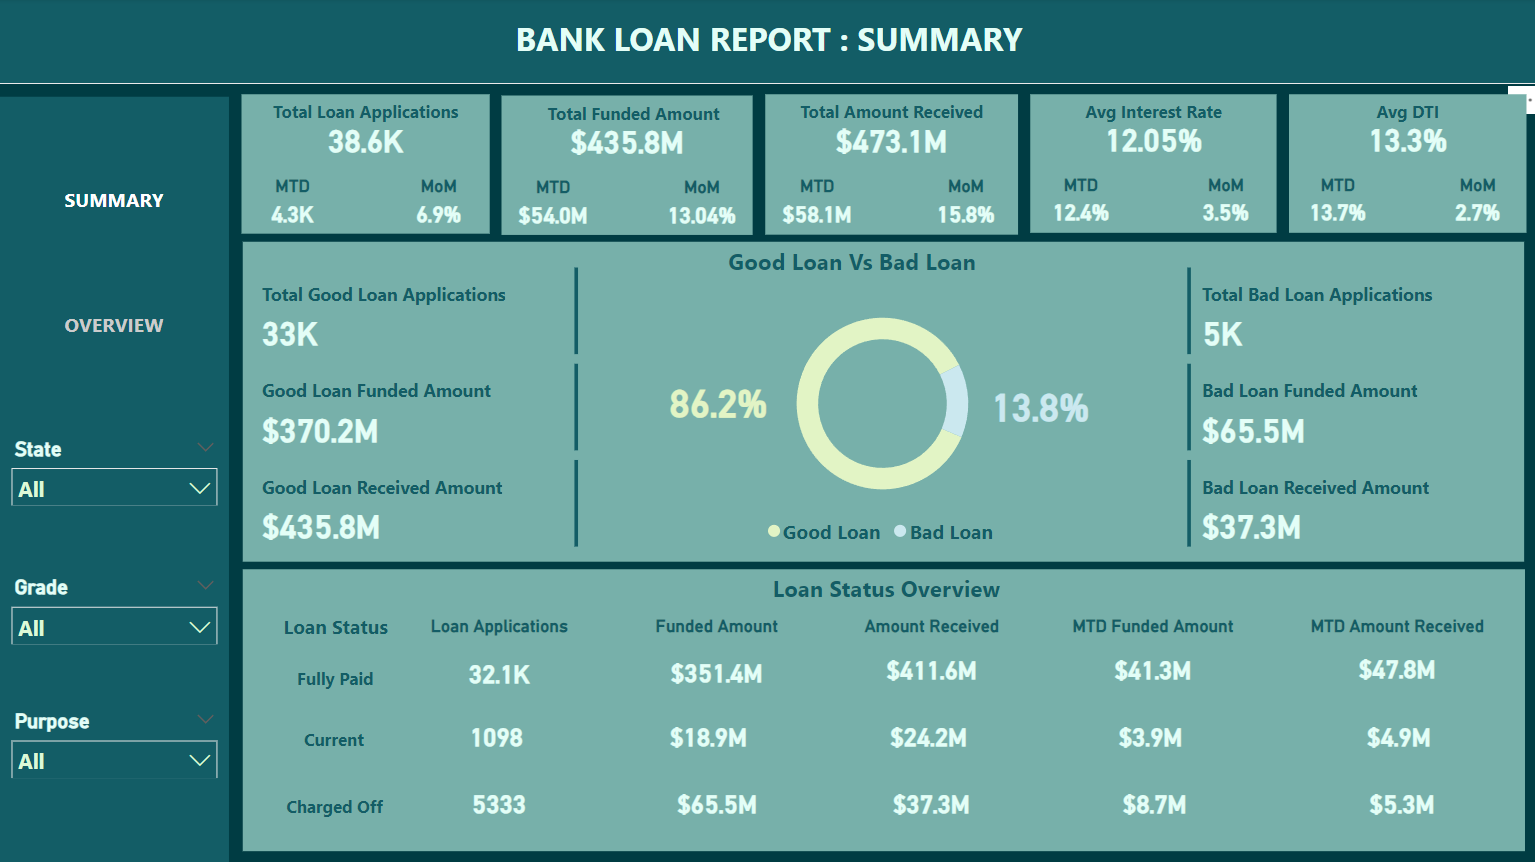

What the dashboard file says about the page in this screenshot:
{"tool":"powerbi","page":{"name":"Page 1","canvas":[1280,720],"ordinal":0},"visuals":[{"type":"shape","box":[0,0,1280.3,71.4],"z":0},{"type":"shape","box":[1073.8,78.6,195.3,116.3],"z":0,"group":"g5"},{"type":"shape","box":[201.8,79.8,195.3,116.3],"z":0,"group":"g2"},{"type":"shape","box":[637.3,79.9,195.3,117.5],"z":0,"group":"g4"},{"type":"shape","box":[856.4,79.9,195.3,116.3],"z":0,"group":"g6"},{"type":"shape","box":[417.4,81.1,195.3,116.3],"z":0,"group":"g1"},{"type":"group","id":"g1","title":"Group 2","box":[417.4,81.1,195.3,116.3],"z":14,"group":"g3"},{"type":"shape","box":[0,78.6,191.7,642.6],"z":1000},{"type":"card","fields":{"Values":["financial_loan.Avg Dti"]},"box":[1073.8,93.7,195.3,45.3],"z":1000,"group":"g5"},{"type":"card","fields":{"Values":["financial_loan.Total Loan Applications"]},"box":[201.8,94.9,195.3,45.3],"z":1000,"group":"g2"},{"type":"card","fields":{"Values":["financial_loan.AVG interest rate"]},"box":[856.4,95,195.3,45.3],"z":1000,"group":"g6"},{"type":"card","fields":{"Values":["financial_loan.Total Amount Received"]},"box":[637.3,95.2,195.3,45.8],"z":1000,"group":"g4"},{"type":"card","fields":{"Values":["financial_loan.Total Funded Amount"]},"box":[417.4,96.2,195.3,45.3],"z":1000,"group":"g1"},{"type":"textbox","box":[0,10.5,1280.2,51.2],"z":2000},{"type":"textbox","box":[1073.8,78.6,195.3,29.1],"z":2000,"group":"g5"},{"type":"textbox","box":[201.8,79.8,195.3,29.1],"z":2000,"group":"g2"},{"type":"textbox","box":[637.3,79.9,195.3,29.4],"z":2000,"group":"g4"},{"type":"textbox","box":[856.4,79.9,195.3,29.1],"z":2000,"group":"g6"},{"type":"textbox","box":[421.9,81.1,195.3,29.1],"z":2000,"group":"g3"},{"type":"group","id":"g2","title":"Group 1","box":[201.8,79.8,195.3,116.3],"z":3000},{"type":"card","title":"MTD","fields":{"Values":["financial_loan.MTD Avg DTI Rate"]},"box":[1073.8,146,80.2,48.8],"z":3000,"group":"g5"},{"type":"card","title":"MTD","fields":{"Values":["financial_loan.MTD Total Applications"]},"box":[201.8,147.2,80.2,48.8],"z":3000,"group":"g2"},{"type":"card","title":"MTD","fields":{"Values":["financial_loan.MTD Avg Interest Rate"]},"box":[856.4,147.3,80.2,48.8],"z":3000,"group":"g6"},{"type":"card","title":"MTD","fields":{"Values":["financial_loan.MTD Amount Received"]},"box":[637.3,148.1,80.2,49.4],"z":3000,"group":"g4"},{"type":"card","title":"MTD","fields":{"Values":["financial_loan.MTD Total Fund"]},"box":[417.4,148.5,80.2,48.8],"z":3000,"group":"g1"},{"type":"group","id":"g3","title":"Group 1","box":[417.4,81.1,199.9,116.3],"z":4000},{"type":"card","title":"MoM","fields":{"Values":["financial_loan.MOM Avg DTI Rate"]},"box":[1188.9,146,80.2,48.8],"z":4000,"group":"g5"},{"type":"card","title":"MoM","fields":{"Values":["financial_loan.MOM Loan Applications"]},"box":[316.9,147.2,80.2,48.8],"z":4000,"group":"g2"},{"type":"card","title":"MoM","fields":{"Values":["financial_loan.MOM Avg Interest Rate"]},"box":[971.5,147.3,80.2,48.8],"z":4000,"group":"g6"},{"type":"card","title":"MoM","fields":{"Values":["financial_loan.MOM Amount Received"]},"box":[752.4,148.1,80.2,49.4],"z":4000,"group":"g4"},{"type":"card","title":"MoM","fields":{"Values":["financial_loan.MOM Loan Funded"]},"box":[532.5,148.5,80.2,48.8],"z":4000,"group":"g1"},{"type":"group","id":"g4","title":"Group 1","box":[637.3,79.9,195.4,118],"z":5000},{"type":"group","id":"g5","title":"Group 1","box":[1073.8,78.6,195.4,116.7],"z":7000},{"type":"group","id":"g6","title":"Group 1","box":[856.4,79.9,195.4,116.7],"z":7001},{"type":"shape","box":[201.5,206.9,515.1,259.7],"z":7002},{"type":"shape","box":[742.5,206.9,527,259.7],"z":7003}]}

Visuals, with their boxes in screenshot pixels (x1, y1, x2, y2), scaled from the page's 1280x720 canvas onto the 1535x862 screenshot:
shape: 0:0:1534:85
shape: 1288:94:1522:233
shape: 242:96:476:235
shape: 764:96:998:236
shape: 1027:96:1261:235
shape: 501:97:735:236
"Group 2" group: 501:97:735:236
shape: 0:94:230:861
card - financial_loan.Avg Dti: 1288:112:1522:166
card - financial_loan.Total Loan Applications: 242:114:476:168
card - financial_loan.AVG interest rate: 1027:114:1261:168
card - financial_loan.Total Amount Received: 764:114:998:169
card - financial_loan.Total Funded Amount: 501:115:735:169
textbox: 0:13:1534:74
textbox: 1288:94:1522:129
textbox: 242:96:476:130
textbox: 764:96:998:131
textbox: 1027:96:1261:130
textbox: 506:97:740:132
"Group 1" group: 242:96:476:235
"MTD" card: 1288:175:1384:233
"MTD" card: 242:176:338:235
"MTD" card: 1027:176:1123:235
"MTD" card: 764:177:860:236
"MTD" card: 501:178:597:236
"Group 1" group: 501:97:740:236
"MoM" card: 1426:175:1522:233
"MoM" card: 380:176:476:235
"MoM" card: 1165:176:1261:235
"MoM" card: 902:177:998:236
"MoM" card: 639:178:735:236
"Group 1" group: 764:96:999:237
"Group 1" group: 1288:94:1522:234
"Group 1" group: 1027:96:1261:235
shape: 242:248:859:559
shape: 890:248:1522:559
